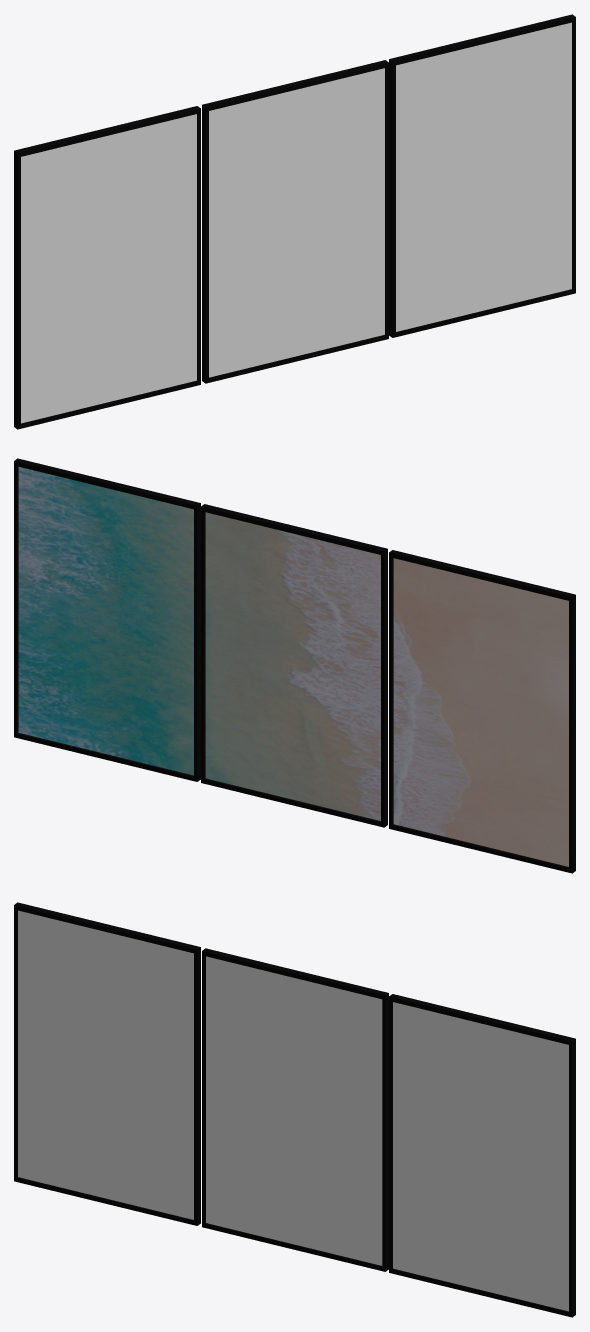
File: LargePaintings.fbx
The picture shows the model from 3 angles, top to bottom: view 1: azimuth 30°, elevation 25°; view 2: azimuth 150°, elevation 25°; view 3: azimuth 330°, elevation 25°; orthographic projection.
Visible parts, largest first — view 1: polySurface2323; view 2: polySurface2323; view 3: polySurface2323.
Part boxes in pixels (x1,y1,x2,y2): polySurface2323: (14, 14, 575, 429); polySurface2323: (14, 458, 575, 873); polySurface2323: (14, 902, 575, 1317).
Size of the model in its own units: 36.26 by 17.15 by 0.4052.
Materials: 4 (1 with a texture image).
